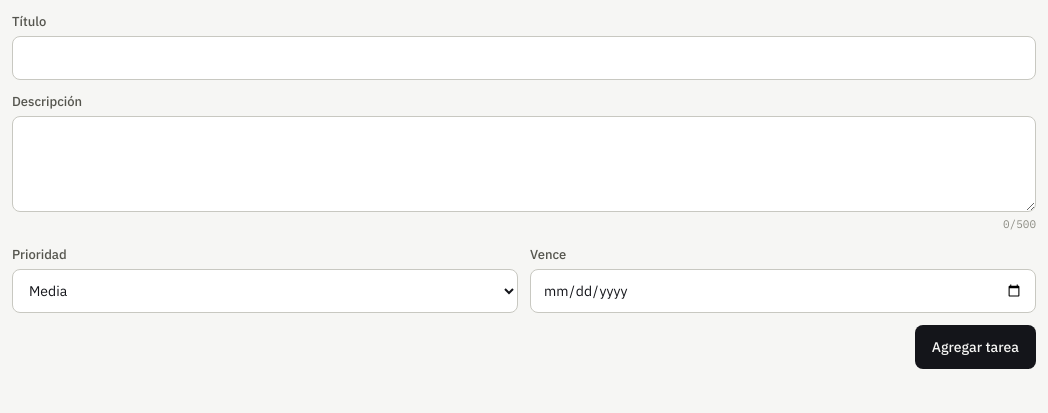
Test: TodoForm › no envía si el título está vacío y muestra el error
What coordinates should you click on to do the following:
click the button "Agregar tarea"
I would click on:
 (975, 348)
Its box is x1=915 y1=326 x2=1036 y2=370.
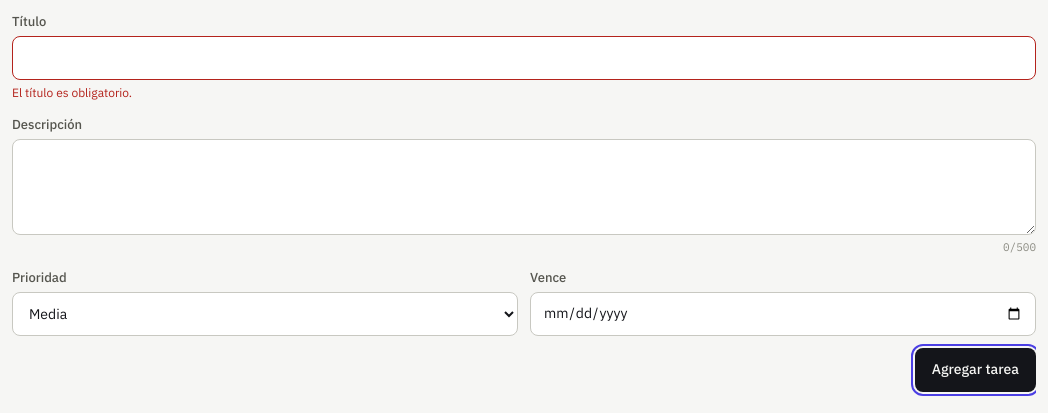
Result: the text "El título es obligatorio." is shown at x1=12 y1=85 x2=132 y2=100
